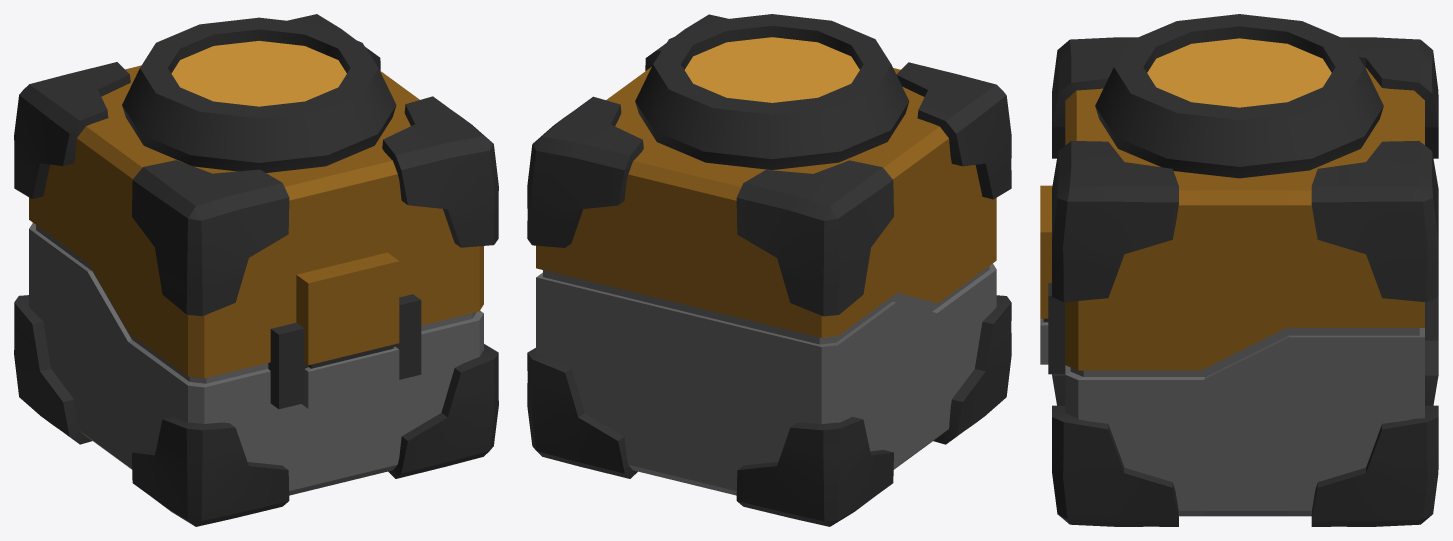
File: space.glb
3 views of the same model, side by side, from view 1: azimuth 30°, elevation 25°; view 2: azimuth 150°, elevation 25°; view 3: azimuth 270°, elevation 25° (orthographic). The views are drawn at different scales.
Visible parts, largest first — view 1: Pickup_Crate, Pickup_Jar; view 2: Pickup_Crate, Pickup_Jar; view 3: Pickup_Crate, Pickup_Jar.
Boxes of the visible parts, x1,y1,x2,y2 form: Pickup_Crate: [14, 14, 498, 526]; Pickup_Jar: [122, 17, 396, 172]; Pickup_Crate: [527, 14, 1011, 526]; Pickup_Jar: [635, 14, 909, 169]; Pickup_Crate: [1040, 37, 1438, 526]; Pickup_Jar: [1095, 14, 1383, 178].
Bounding box in the file's own units: 0.8142 × 0.9 × 0.8386.
